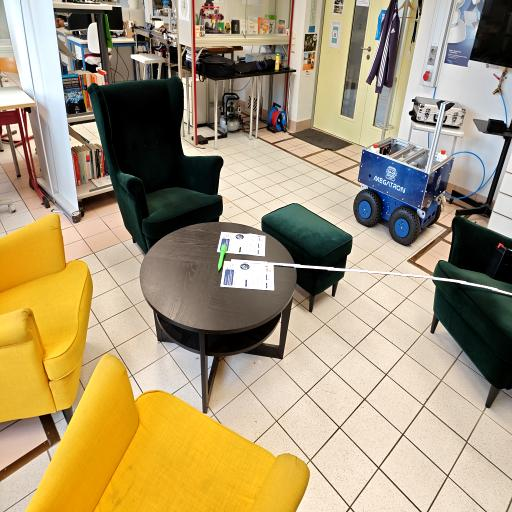Probe-Detection: (218, 244, 226, 271)
